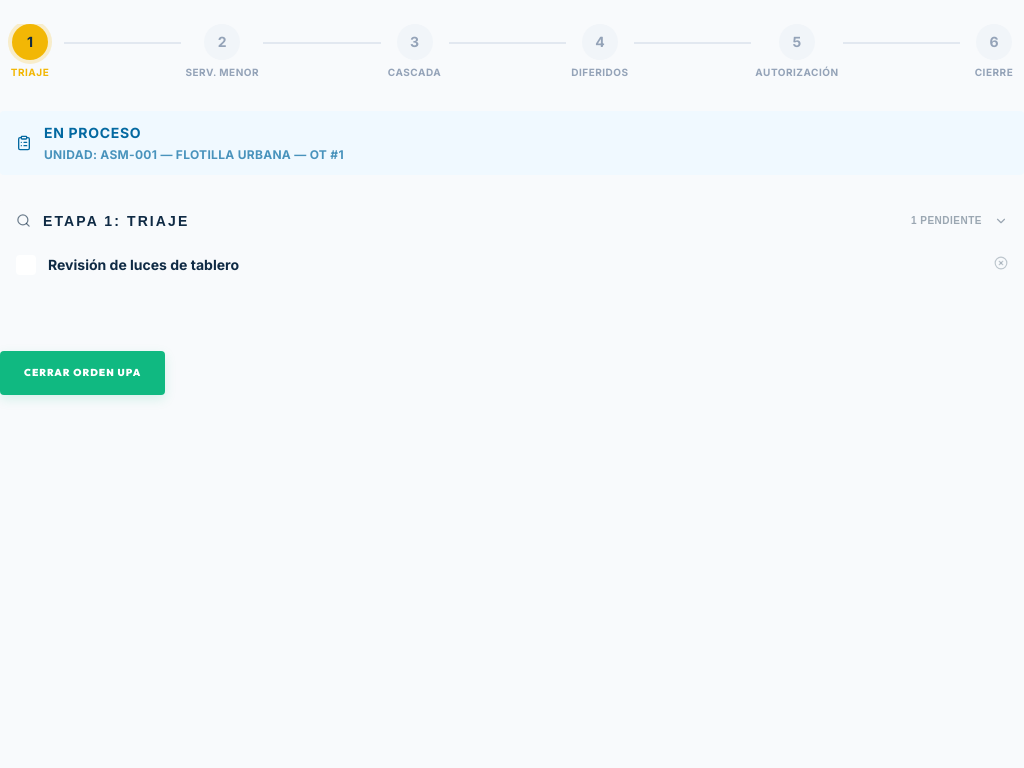
Test: UpaWorkspace › Defer Modal › opens defer modal when defer button is clicked
Step 1. Click the button with test id "defer-btn-triage_dashboard_lights" → (1001,264), box [994, 256, 1008, 273]
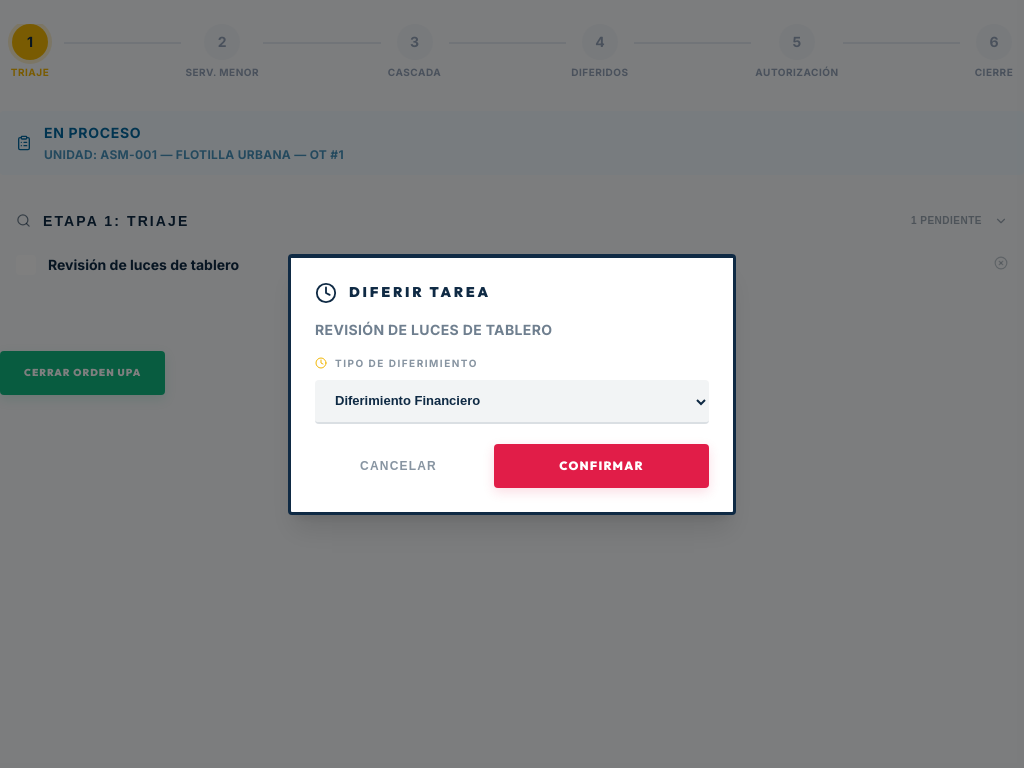
Now the element with test id "defer-modal" is shown
